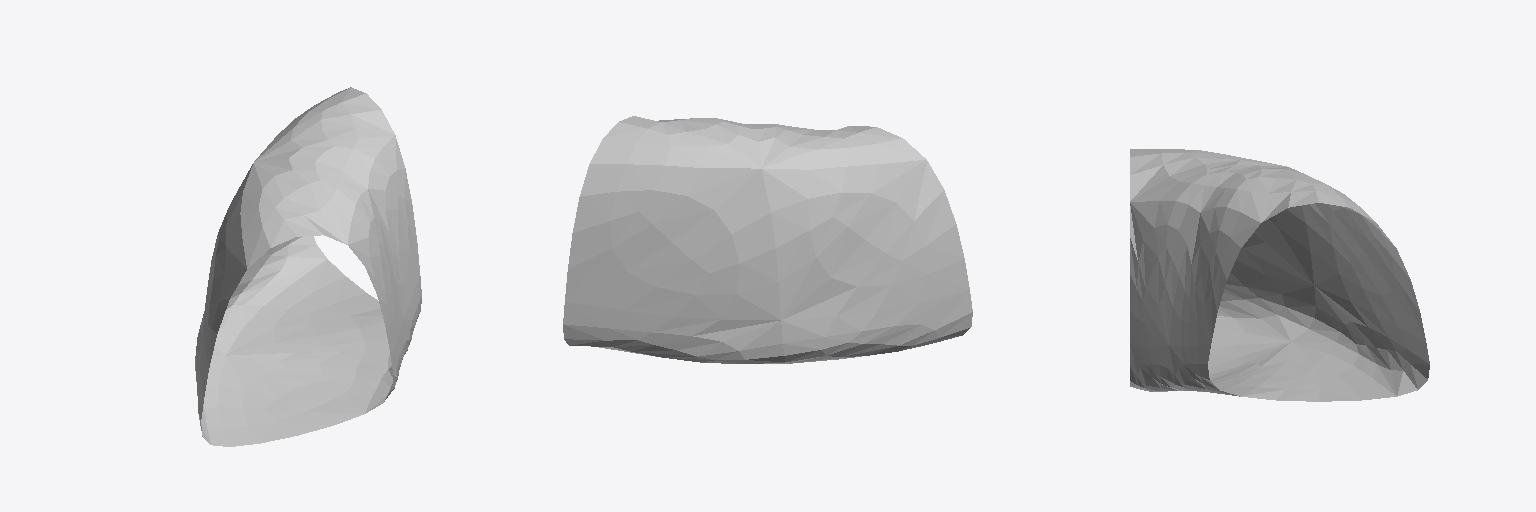
File: cave_901r_1.obj
3 renders of one model, left to right at view 1: azimuth 30°, elevation 25°; view 2: azimuth 150°, elevation 25°; view 3: azimuth 270°, elevation 25°, orthographic.
Visible parts, largest first — view 1: cave_901r_1_Cube.075; view 2: cave_901r_1_Cube.075; view 3: cave_901r_1_Cube.075.
Part boxes in pixels (x1,y1,x2,y2): cave_901r_1_Cube.075: (195,87,421,446); cave_901r_1_Cube.075: (563,116,972,363); cave_901r_1_Cube.075: (1130,149,1429,401).
Size of the model in its own units: 7.94 by 6.81 by 7.94.